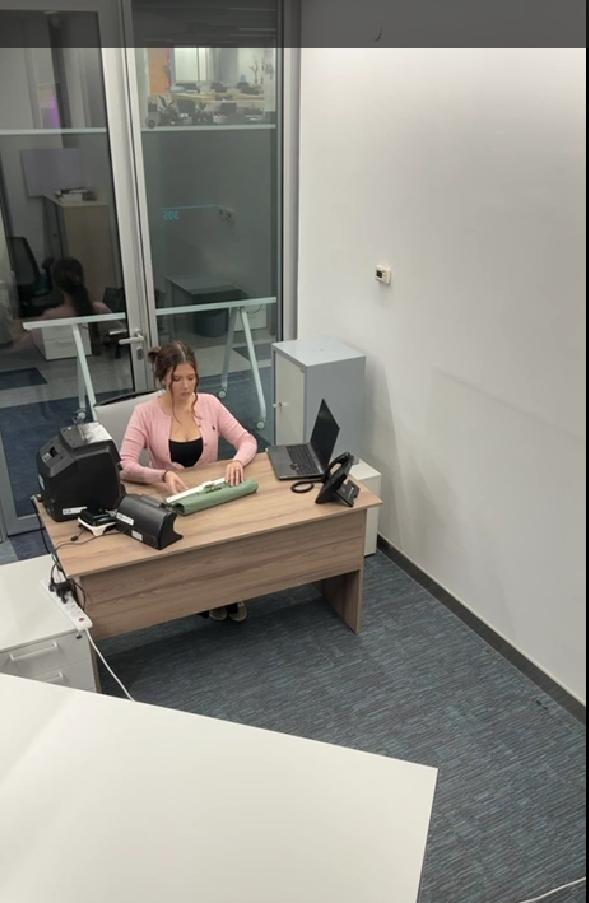cash-in-transit bag: (154, 468, 278, 520)
counter: (26, 412, 133, 528)
key_in: (258, 386, 297, 433)
uv_lamp: (94, 494, 191, 572)
